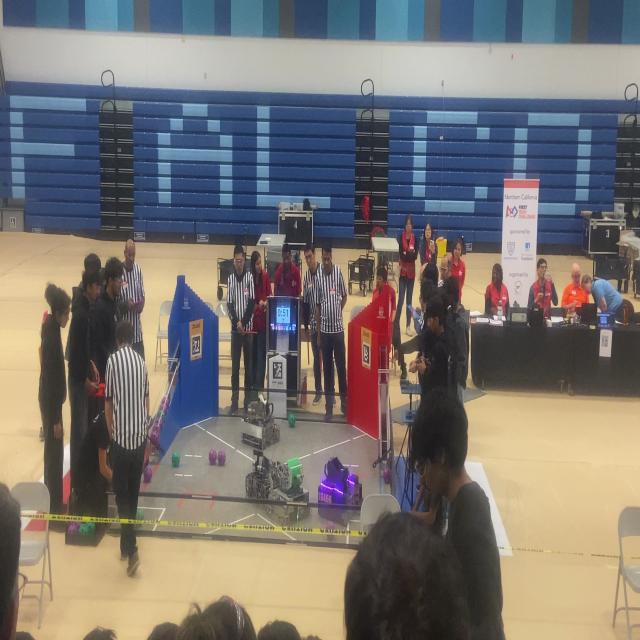artifact_green: (150, 427, 159, 448), (143, 466, 152, 483), (383, 467, 392, 484), (160, 396, 169, 412), (172, 452, 180, 468), (152, 417, 160, 432), (79, 523, 89, 535), (157, 409, 165, 422), (136, 508, 144, 520), (87, 522, 95, 534), (289, 413, 295, 427), (158, 419, 163, 431)
artifact_purple: (150, 428, 159, 448), (160, 396, 169, 413), (68, 522, 79, 535), (144, 466, 152, 483), (383, 468, 391, 484), (218, 450, 226, 466), (152, 427, 160, 441), (209, 449, 216, 465), (152, 425, 160, 435), (158, 410, 165, 421), (153, 418, 159, 430), (158, 419, 163, 430)
